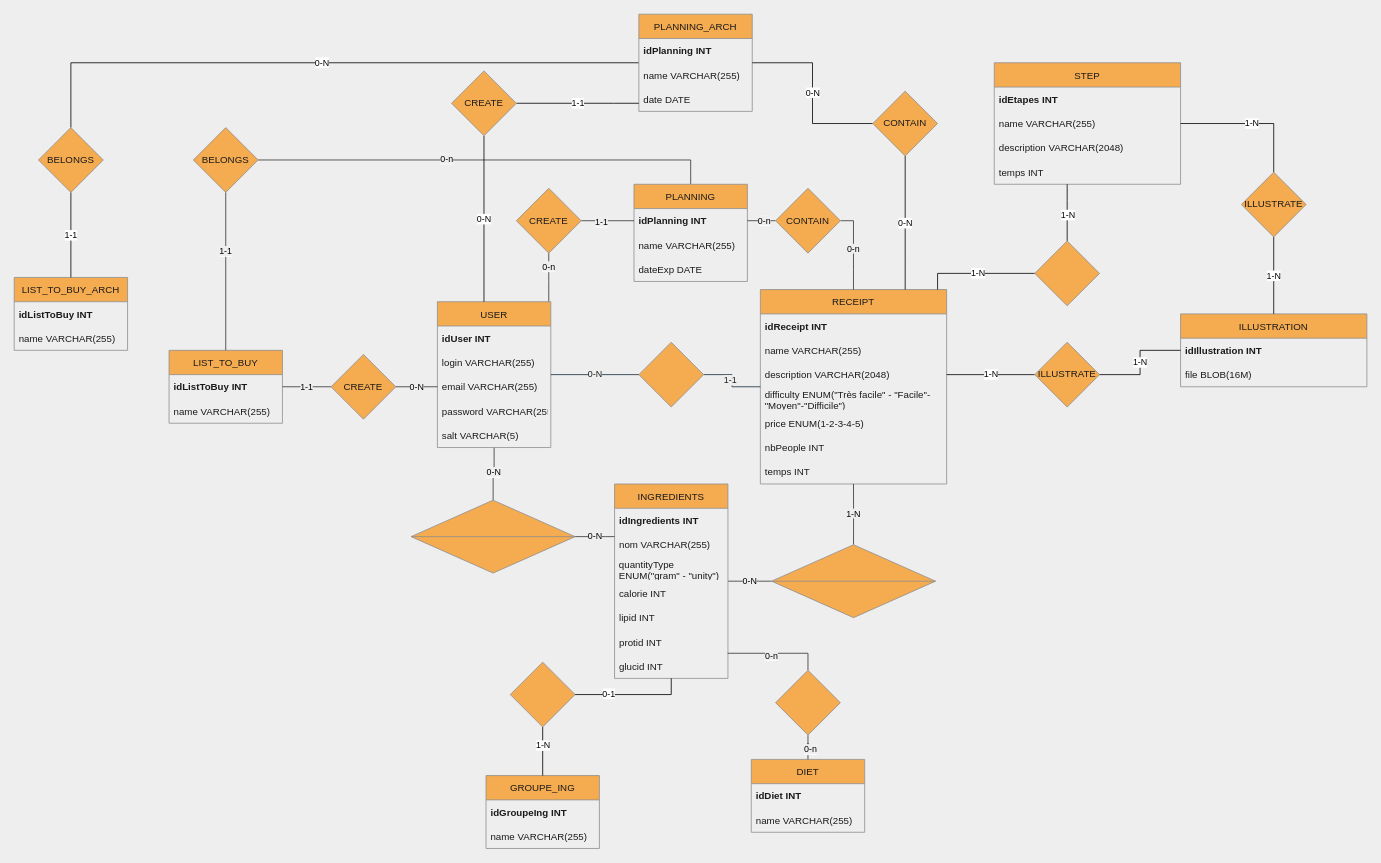
The diagram is 1381 pixels wide and 863 high, and some of its shapes have lost their labels. Each missing label, with the centre of its shape:
COMPOSE Quantity INT: the point at 853,581
HAS Quantity INT: the point at 492,536
HAVE: the point at 1067,273
IS IN: the point at 542,694
PROHIBITED: the point at 807,702
WRITE: the point at 671,374
